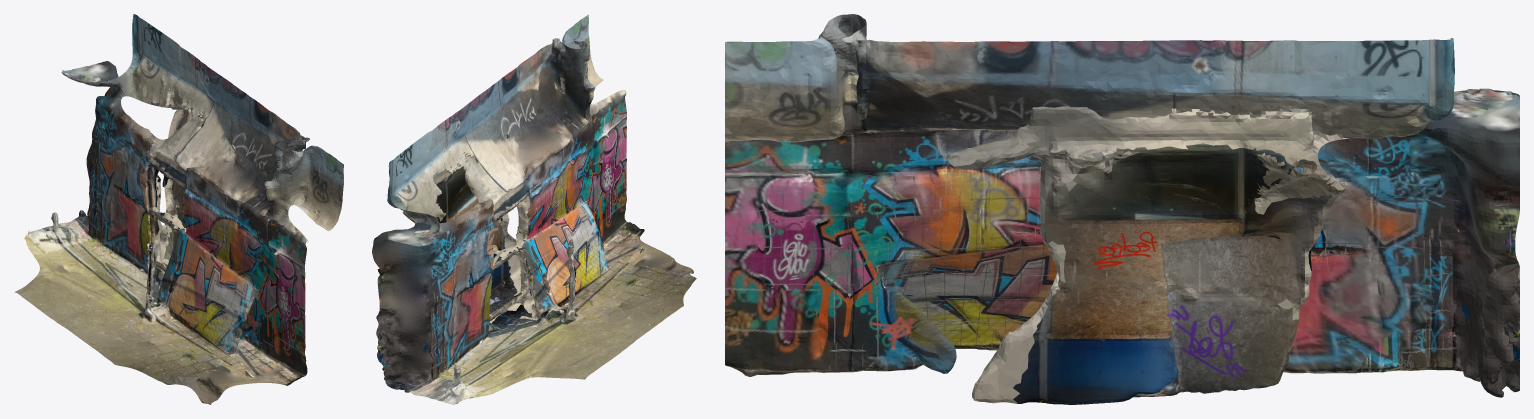
File: S020_BuildingInProgress.glb
The picture shows the model from 3 angles, left to right: view 1: azimuth 30°, elevation 25°; view 2: azimuth 150°, elevation 25°; view 3: azimuth 270°, elevation 25°; orthographic projection. The views are drawn at different scales.
Parts seen in each view (by area): view 1: Apr29at4-24PM-poly.001; view 2: Apr29at4-24PM-poly.001; view 3: Apr29at4-24PM-poly.001.
Part boxes in pixels (x1,y1,x2,y2): Apr29at4-24PM-poly.001: (14,14,343,404); Apr29at4-24PM-poly.001: (372,14,696,404); Apr29at4-24PM-poly.001: (725,14,1519,404).
Size of the model in its own units: 3.41 by 3.97 by 7.31.
1 material, 1 textured.
